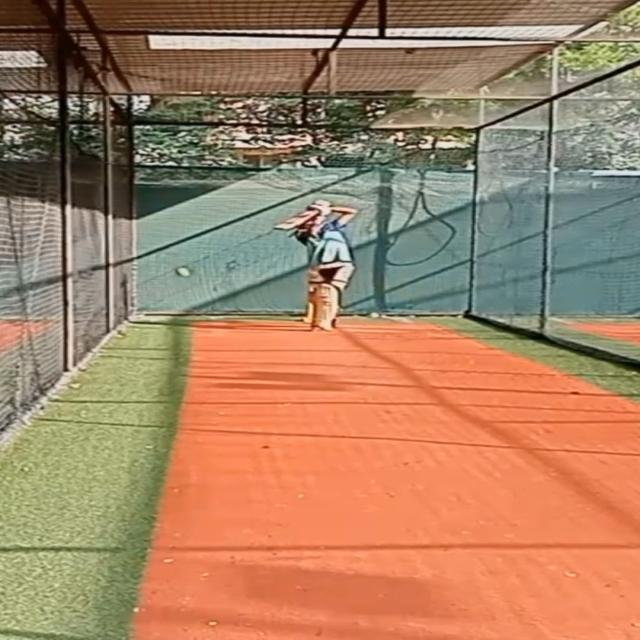ball: (174, 264, 198, 280)
